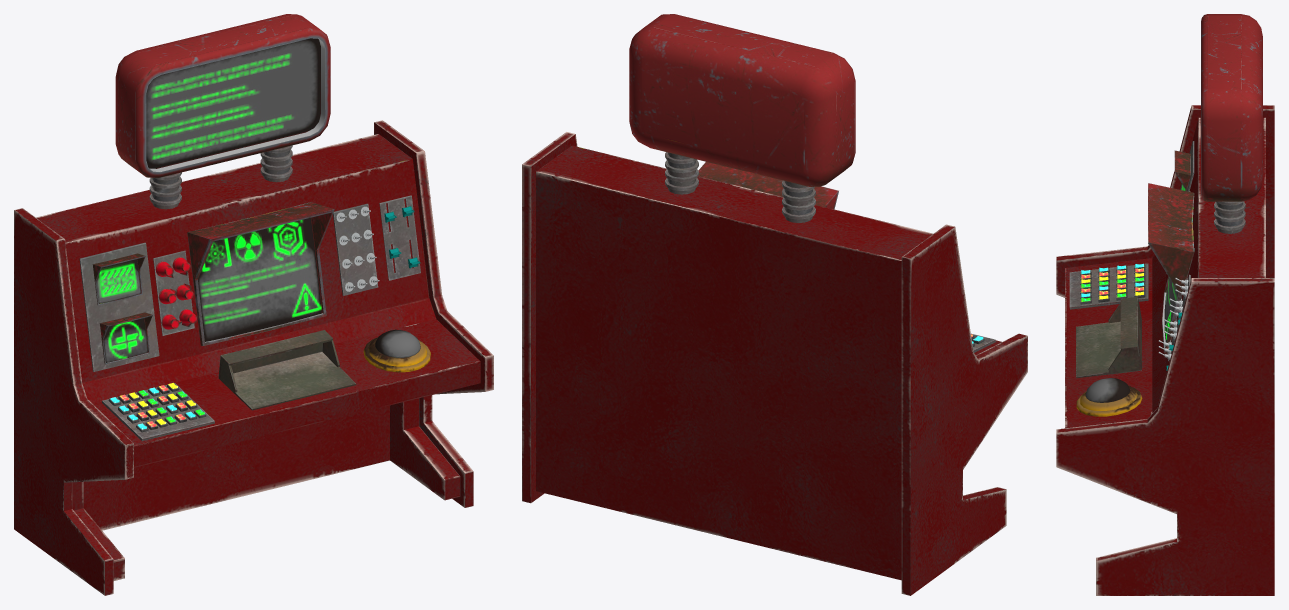
Rendered from compute_for_old_lab.glb.
The picture shows the model from 3 angles, left to right: view 1: azimuth 30°, elevation 25°; view 2: azimuth 150°, elevation 25°; view 3: azimuth 270°, elevation 25°; orthographic projection. The views are drawn at different scales.
Parts seen in each view (by area): view 1: Cylinder.053; view 2: Cylinder.053; view 3: Cylinder.053.
Part boxes in pixels (box(x1,y1,x2,y2)): Cylinder.053: box(14, 14, 493, 595); Cylinder.053: box(522, 14, 1027, 595); Cylinder.053: box(1056, 14, 1274, 595).
Size of the model in its own units: 2.23 by 2.68 by 1.17.
Materials: 1 (1 with a texture image).
